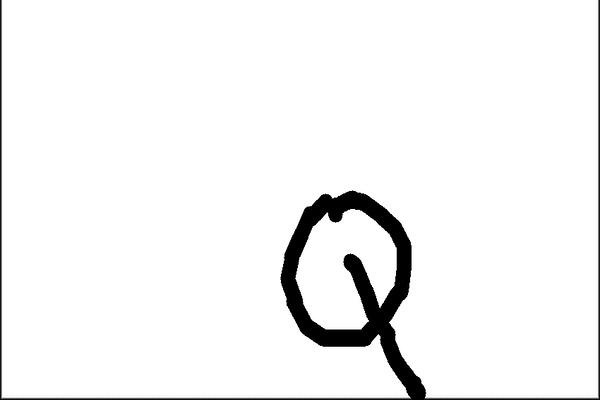Q: (271, 182, 447, 399)
